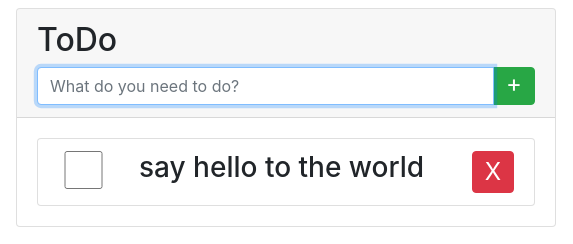
Test case: Todo list › delete a todo item
Expected: the list with class "todo-list" shows "say hello to the world", [139,150,424,184]
Click the button with test id "delete-0" at (493, 172), box [472,151,514,193]
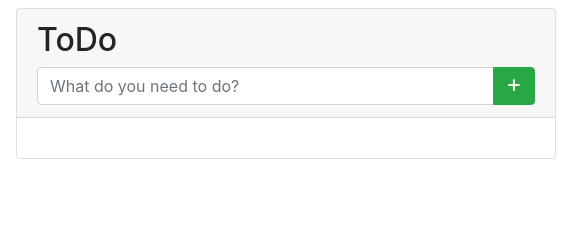
Result: the heading with class "todo-list" no longer shows "say hello to the world"
